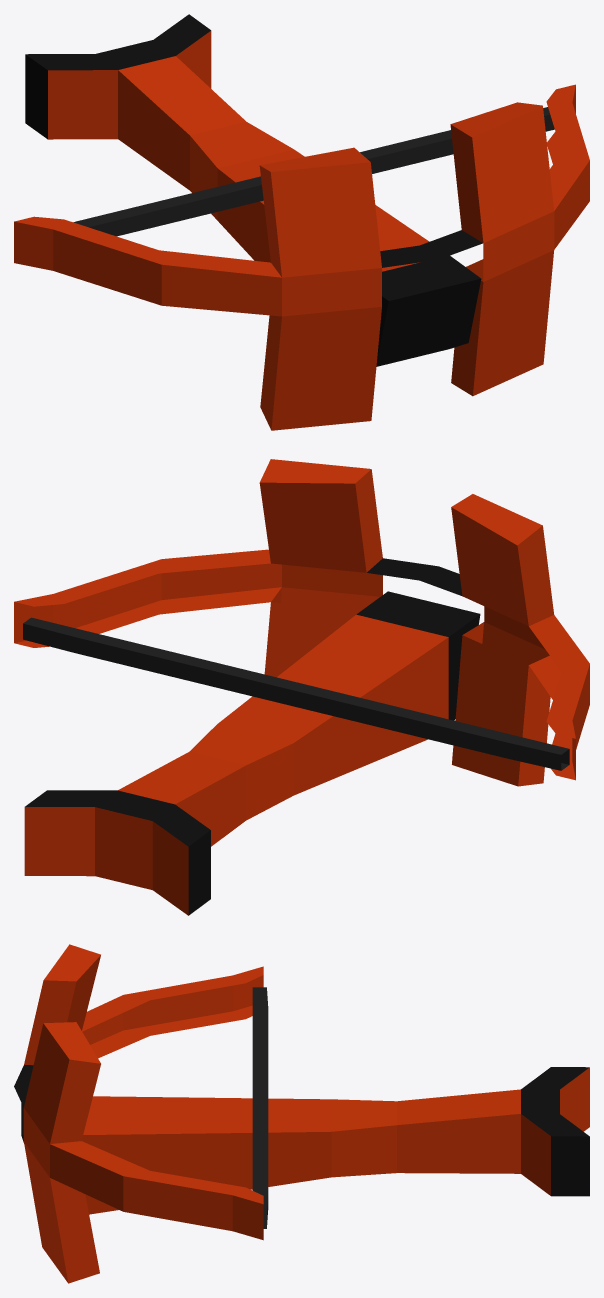
File: balista_turret.obj
3 views of the same model, one above another, from view 1: azimuth 30°, elevation 25°; view 2: azimuth 150°, elevation 25°; view 3: azimuth 270°, elevation 25° (orthographic). The views are drawn at different scales.
Parts seen in each view (by area): view 1: balista_turret; view 2: balista_turret; view 3: balista_turret.
Boxes of the visible parts, bbox=[...] form: balista_turret: bbox=[14, 14, 589, 430]; balista_turret: bbox=[14, 459, 589, 915]; balista_turret: bbox=[14, 944, 589, 1283].
Size of the model in its own units: 0.749 by 0.329 by 0.7663.
